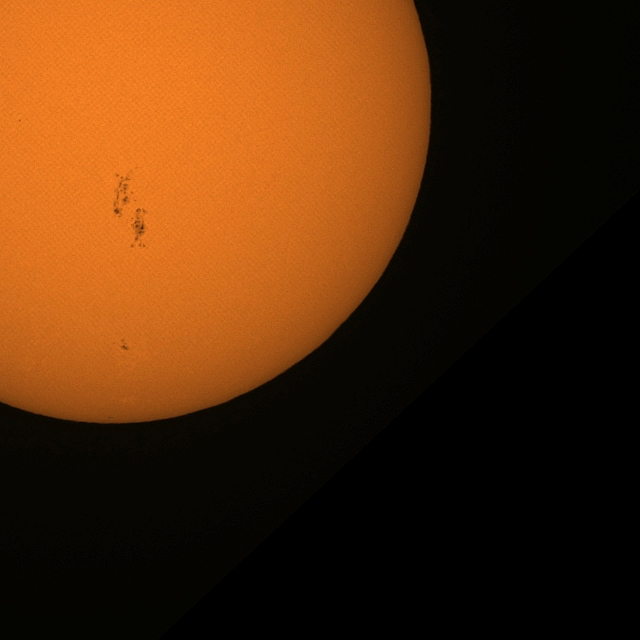sunspot: (113, 172, 142, 214), (127, 205, 150, 252), (119, 338, 130, 351)
